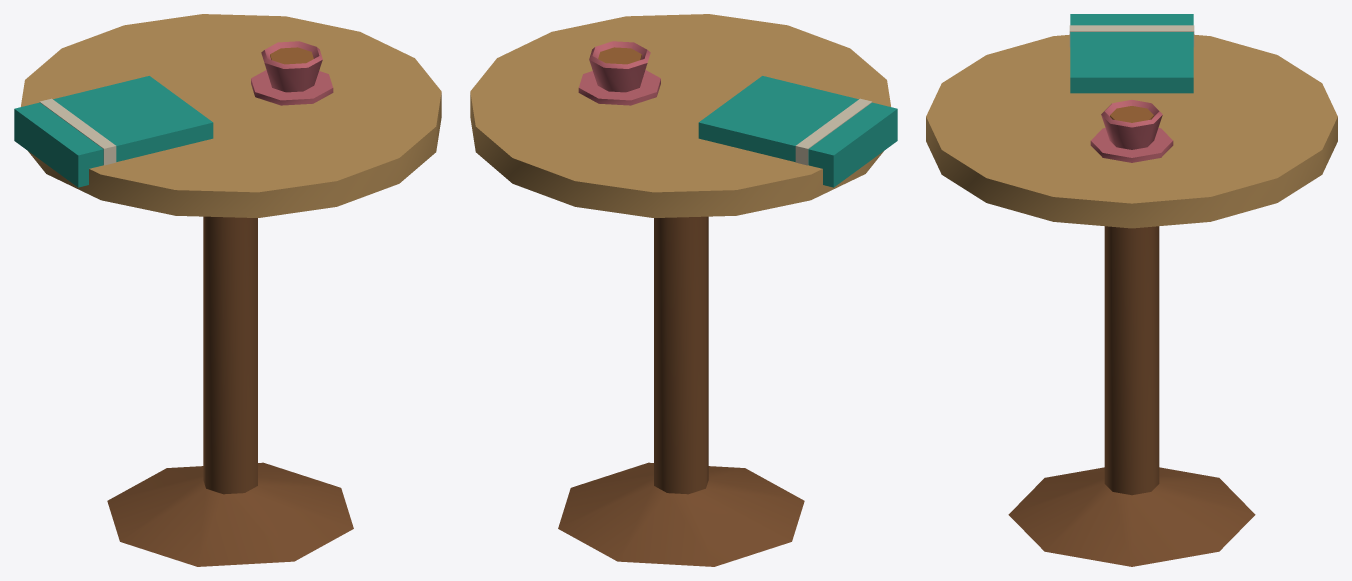
The model's file is side_table.glb.
3 renders of one model, left to right at view 1: azimuth 30°, elevation 25°; view 2: azimuth 150°, elevation 25°; view 3: azimuth 270°, elevation 25°, orthographic. The views are drawn at different scales.
Visible parts, largest first — view 1: furniture-side_table; view 2: furniture-side_table; view 3: furniture-side_table.
Part boxes in pixels (left/top/right/bottom): furniture-side_table: left=14, top=14, right=441, bottom=566; furniture-side_table: left=470, top=14, right=897, bottom=566; furniture-side_table: left=926, top=14, right=1337, bottom=566.
Size of the model in its own units: 0.6 by 0.695 by 0.6.
